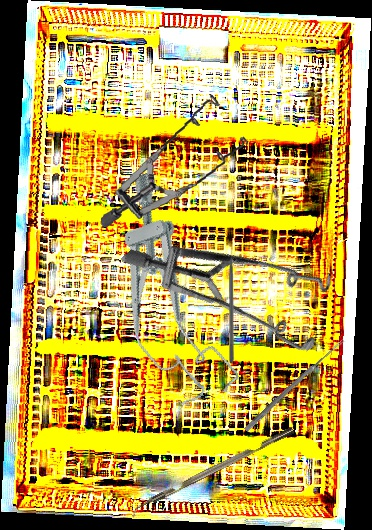Chopper: (127, 426, 299, 522)
Pusher: (229, 242, 235, 363)
Speculum: (120, 161, 359, 406), (86, 166, 243, 414), (89, 90, 255, 228)
Surgical Spoon: (243, 337, 346, 433)
